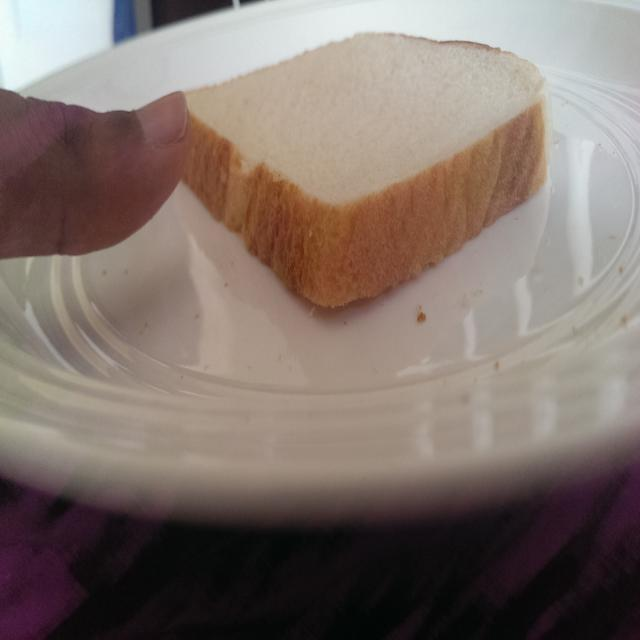Bread: (188, 29, 554, 324)
Finger: (14, 88, 200, 268)
